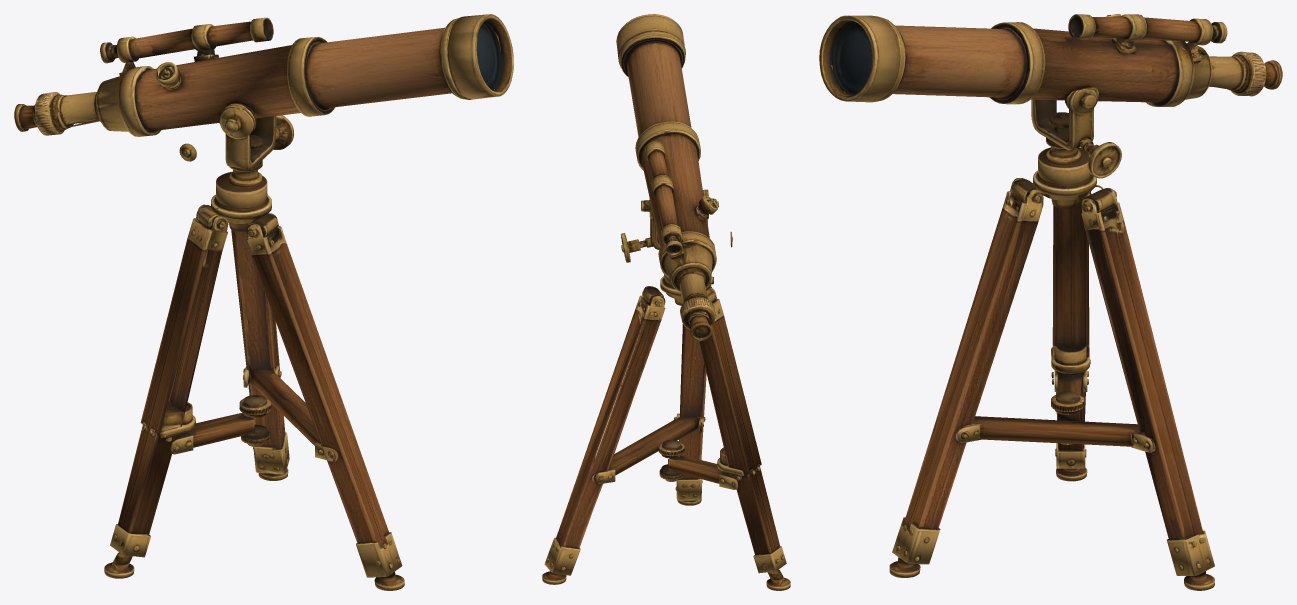
File: telescope.glb
The picture shows the model from 3 angles, left to right: view 1: azimuth 30°, elevation 25°; view 2: azimuth 150°, elevation 25°; view 3: azimuth 270°, elevation 25°; orthographic projection. The views are drawn at different scales.
Visible parts, largest first — view 1: tripo_node_41fd7591-f017-4bf5-bc28-9a08c378b119; view 2: tripo_node_41fd7591-f017-4bf5-bc28-9a08c378b119; view 3: tripo_node_41fd7591-f017-4bf5-bc28-9a08c378b119.
Boxes of the visible parts, x1,y1,x2,y2 form: tripo_node_41fd7591-f017-4bf5-bc28-9a08c378b119: (14, 14, 513, 590); tripo_node_41fd7591-f017-4bf5-bc28-9a08c378b119: (542, 14, 790, 590); tripo_node_41fd7591-f017-4bf5-bc28-9a08c378b119: (819, 14, 1282, 590).
Size of the model in its own units: 0.5708 by 0.9995 by 0.7124.
1 material, 1 textured.
